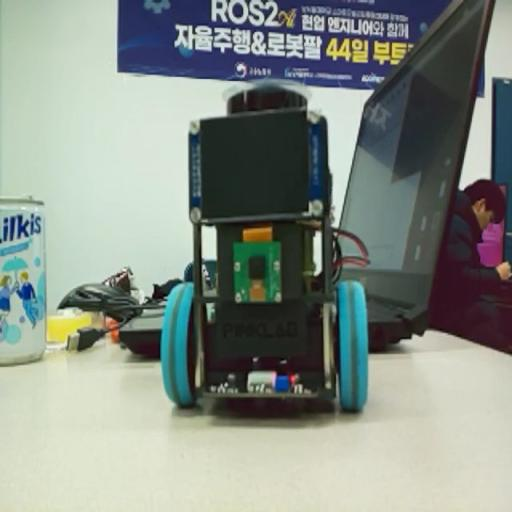pinky_63: (160, 76, 374, 421)
